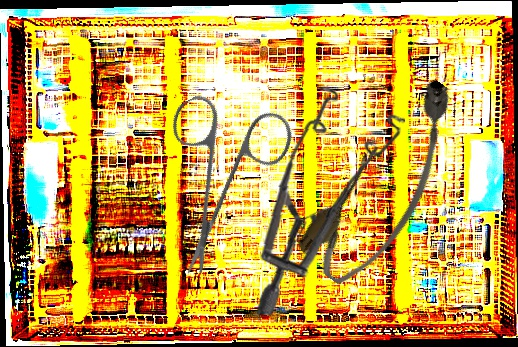Cannula: (290, 69, 487, 297)
Iris Scissors: (111, 62, 333, 280)
Speculum: (248, 84, 412, 316)
